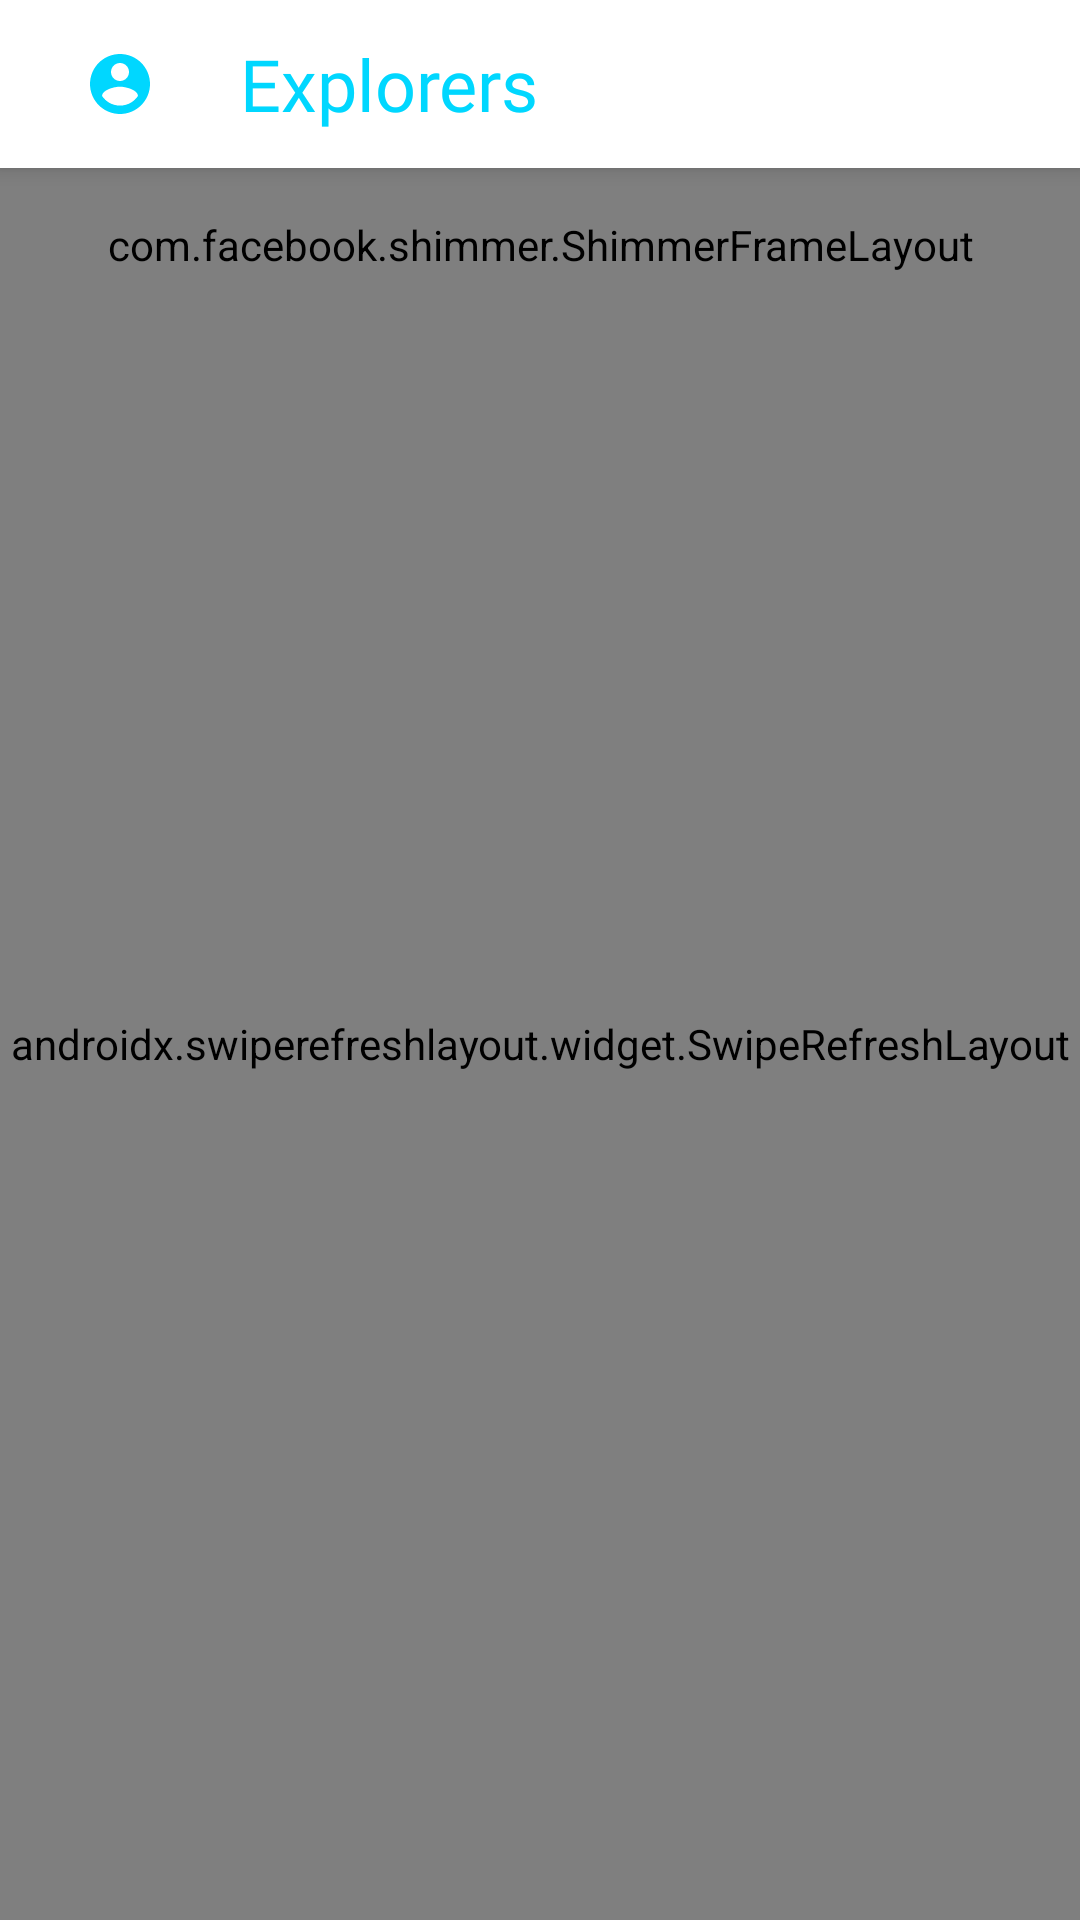

Named icons in this screenshot (1080w x 1920h) and their centers, point (x, y):
Account: point (120, 84)
